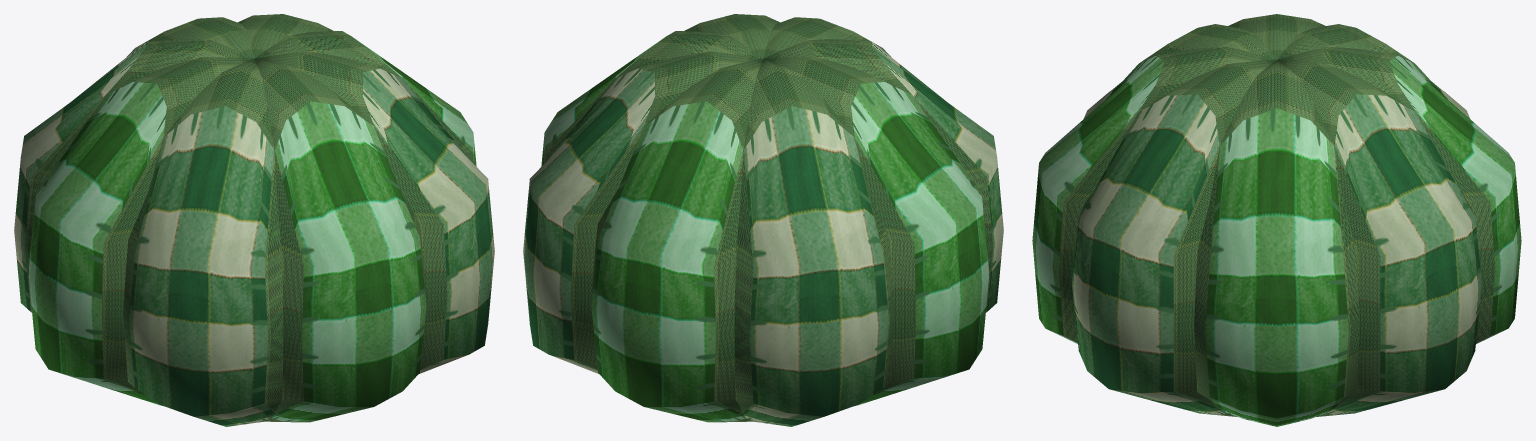
File: struik_.fbx
3 views of the same model, side by side, from view 1: azimuth 30°, elevation 25°; view 2: azimuth 150°, elevation 25°; view 3: azimuth 270°, elevation 25° (orthographic).
Visible parts, largest first — view 1: struik; view 2: struik; view 3: struik.
Boxes of the visible parts, <box> form: struik: <box>14,14,494,426</box>; struik: <box>523,14,1003,426</box>; struik: <box>1032,14,1521,426</box>.
Bounding box in the file's own units: 58.14 × 46.63 × 58.57.
Materials: 1 (1 with a texture image).
